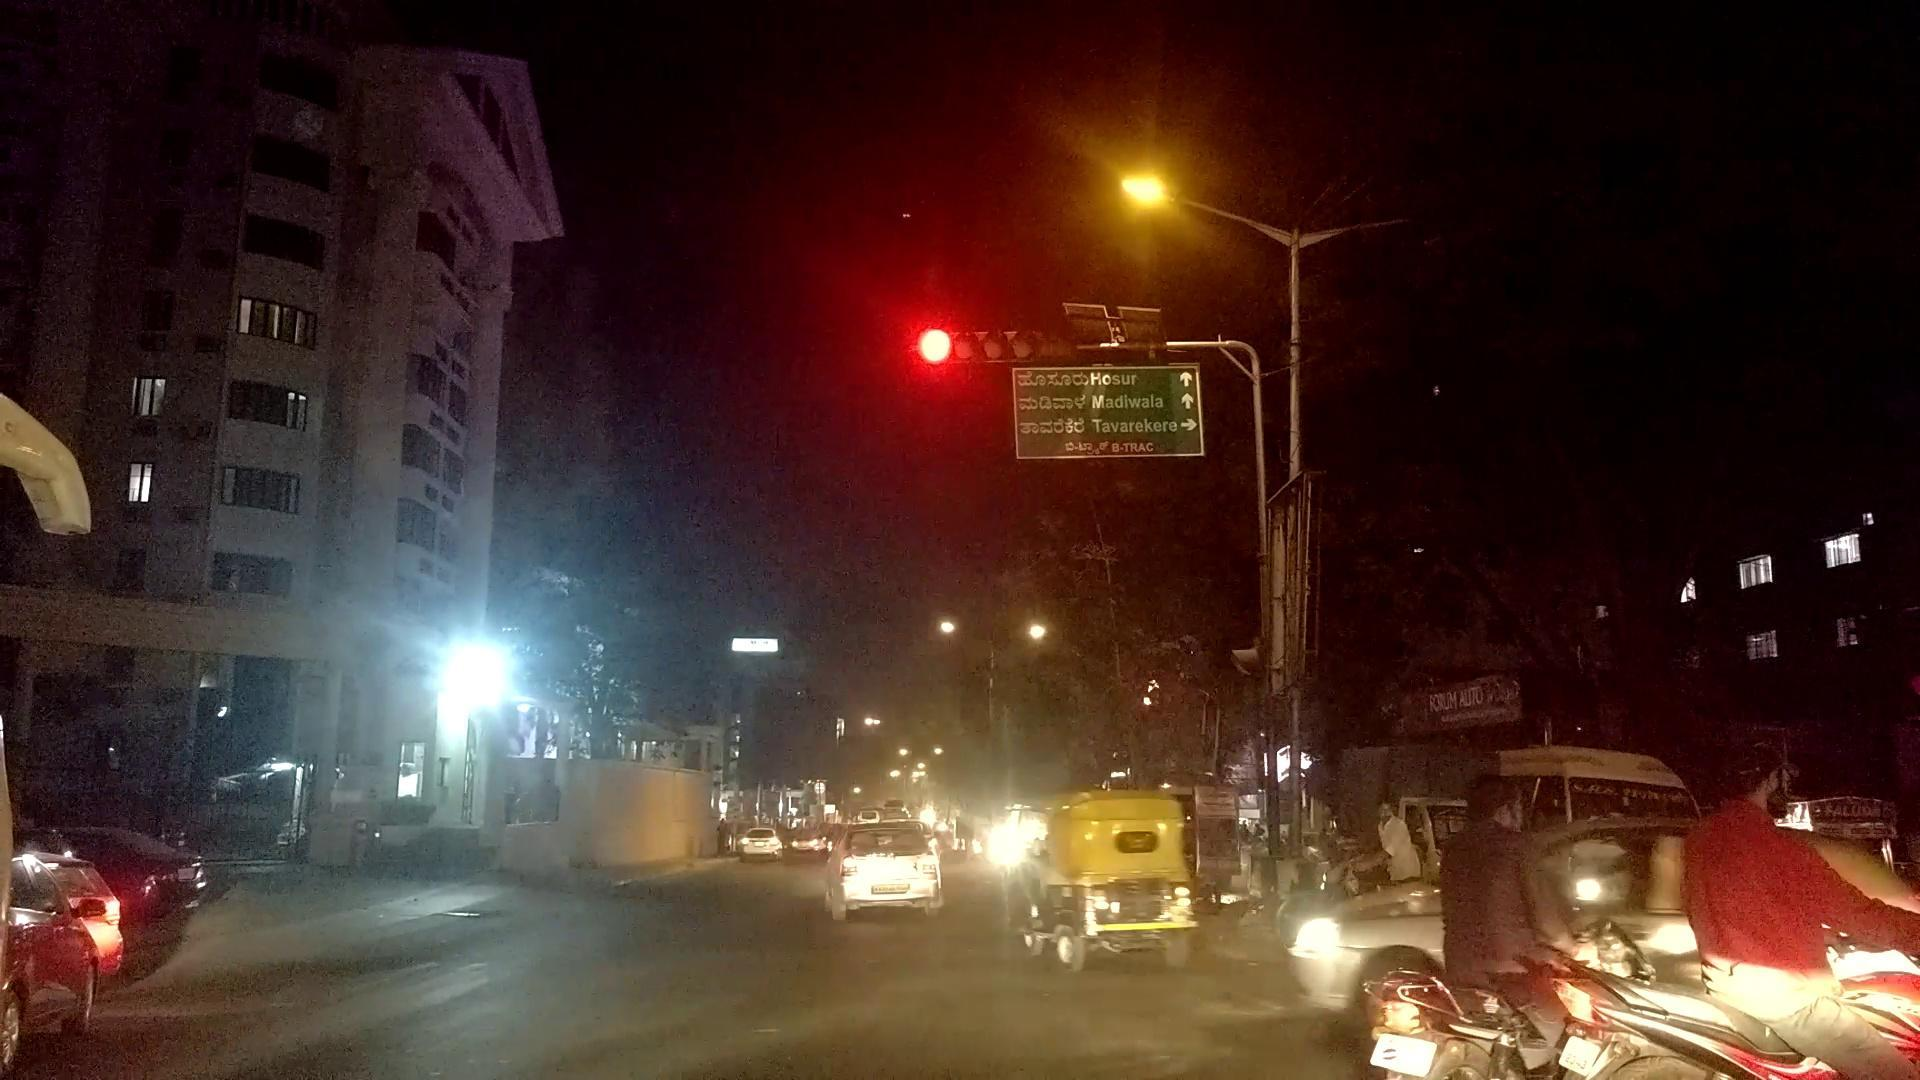on: (1080, 62, 1342, 355)
